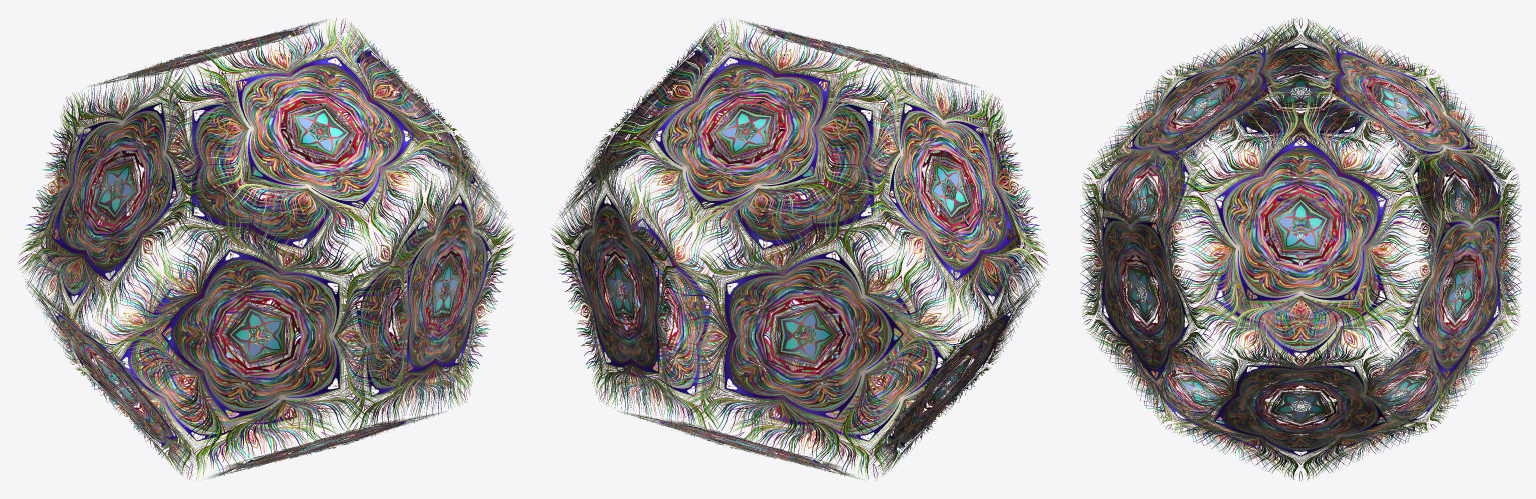
File: Dodecahedron13.obj
The picture shows the model from 3 angles, left to right: view 1: azimuth 30°, elevation 25°; view 2: azimuth 150°, elevation 25°; view 3: azimuth 270°, elevation 25°; orthographic projection. The views are drawn at different scales.
Size of the model in its own units: 2.62 by 2.62 by 2.62.
1 material, 1 textured.
